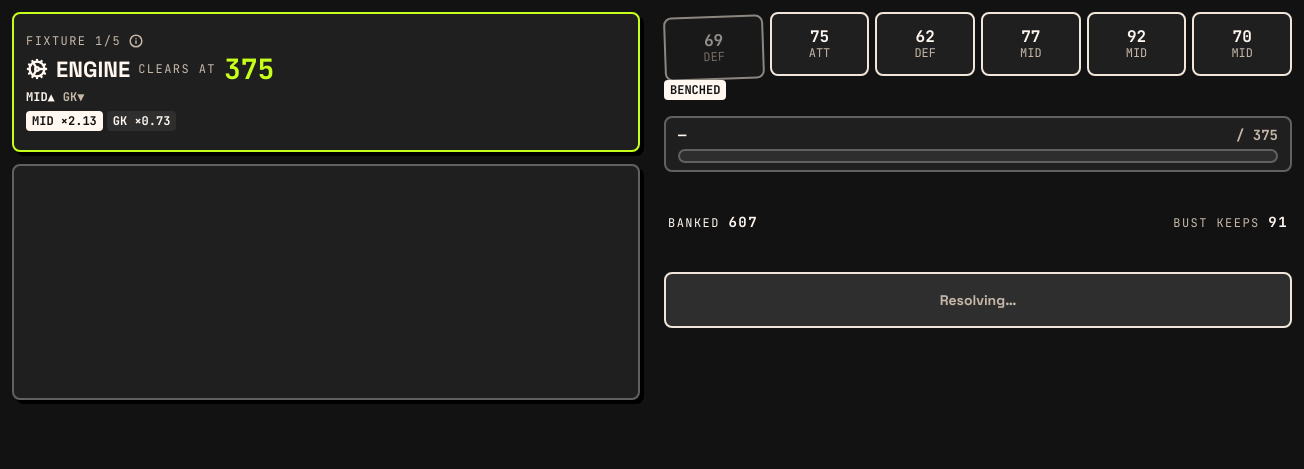
Test: reveal staging (Ticket G3 + D1 ledger) › a tap skips straight to the verdict — no fake spinners to wait out
The width and height of the screenshot is (1304, 469).
Step 1. Press the mouse on the element with test id "draw-round-stage" → [652, 206], box [12,12,1292,400]
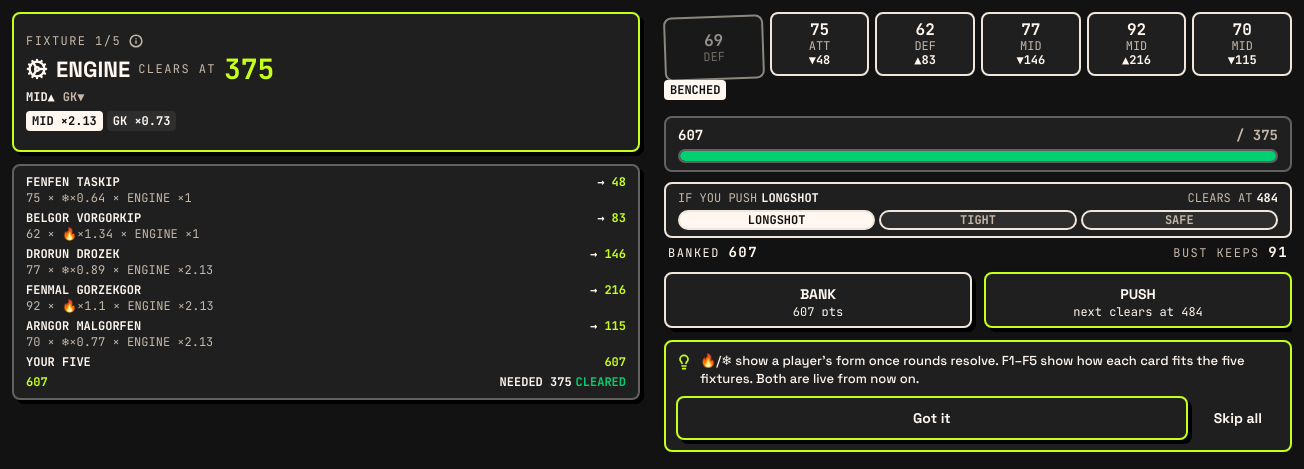
Now the text "CLEARED" is shown, box [576,374,626,390]
Now the element with test id "draw-ledger-card-0" is shown, box [26,174,626,206]
Now the element with test id "draw-ledger-card-1" is shown, box [26,210,626,242]
